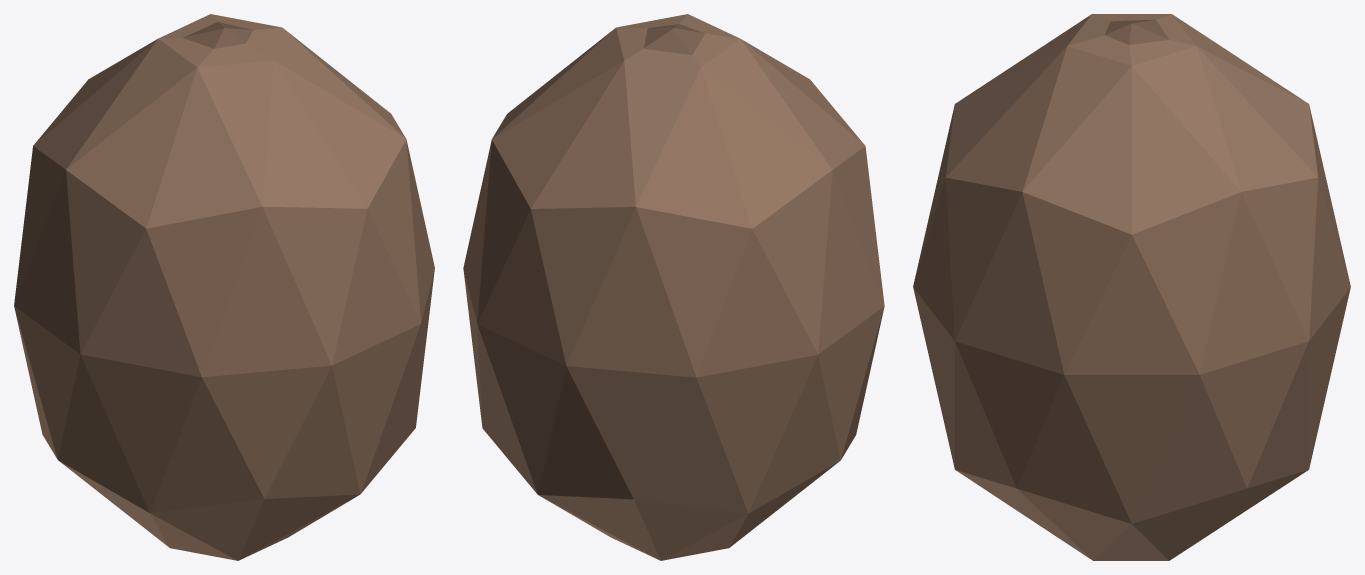
Rendered from Kiwi_01.fbx.
3 renders of one model, left to right at view 1: azimuth 30°, elevation 25°; view 2: azimuth 150°, elevation 25°; view 3: azimuth 270°, elevation 25°, orthographic.
Parts seen in each view (by area): view 1: Kiwi_01; view 2: Kiwi_01; view 3: Kiwi_01.
Part boxes in pixels (x1,y1,x2,y2): Kiwi_01: [14, 14, 434, 560]; Kiwi_01: [463, 14, 884, 560]; Kiwi_01: [913, 14, 1350, 560].
Size of the model in its own units: 6.57 by 9.13 by 6.91.
